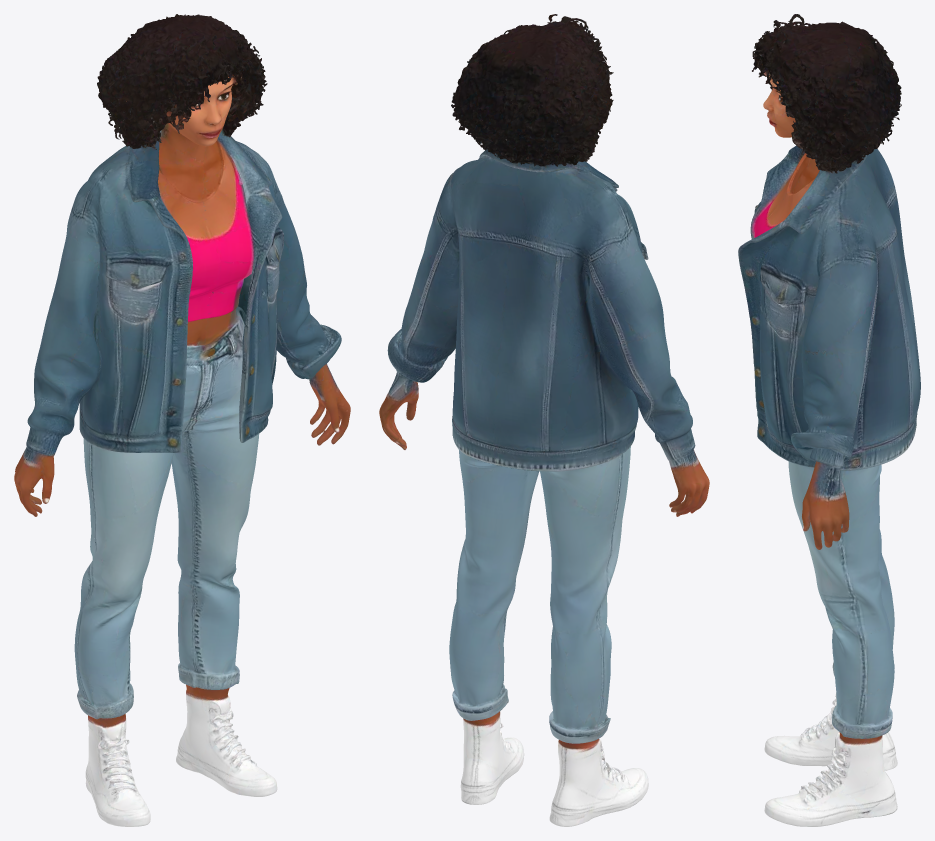
Rendered from marisol.glb.
3 views of the same model, side by side, from view 1: azimuth 30°, elevation 25°; view 2: azimuth 150°, elevation 25°; view 3: azimuth 270°, elevation 25° (orthographic).
Bounding box in the file's own units: 0.8469 × 1.9 × 0.4105.
Materials: 1 (1 with a texture image).
